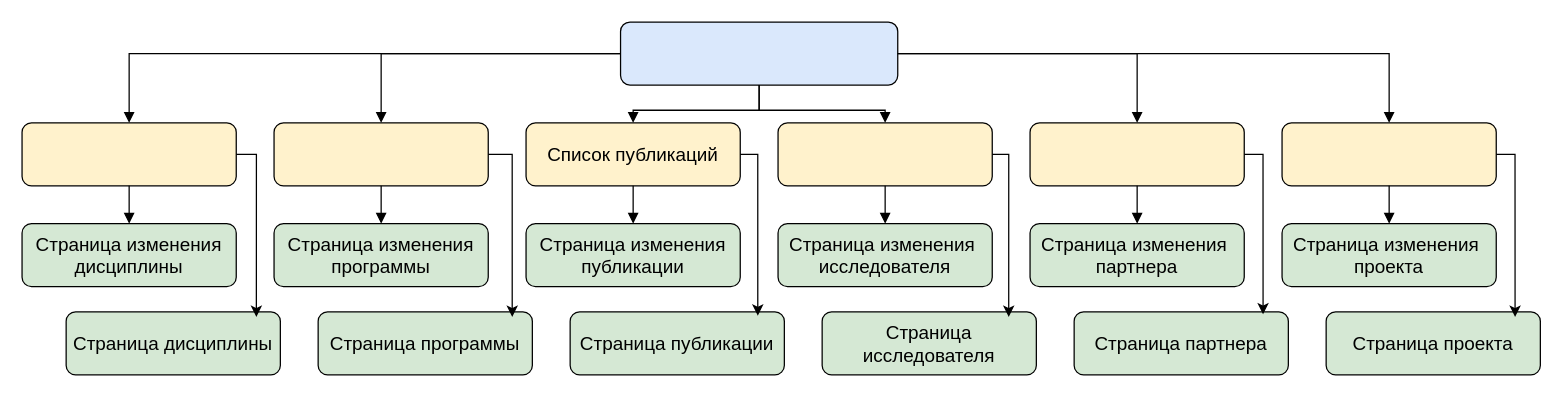
Some shapes in this 1562 by 397 pixel diagram are drawn without their labels. The centre of each missing label's shape, as x and y in pixels:
Авторизация: pixel 758 53
Список дисциплин: pixel 128 154
Список исследователей: pixel 884 154
Список партнеров: pixel 1136 154
Список проектов: pixel 1388 154
Список учебных программ: pixel 380 154
